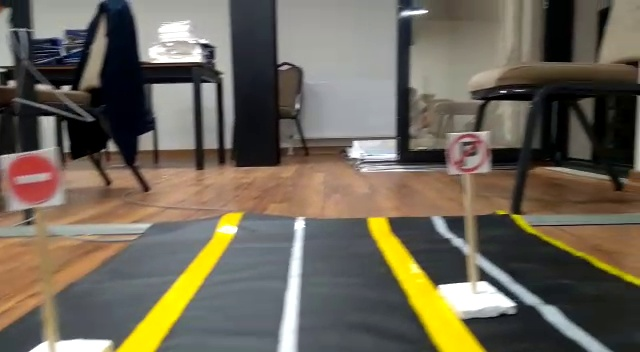girisi_olmayan_yol: (5, 156, 58, 205)
park_yapilmaz: (445, 129, 491, 173)
